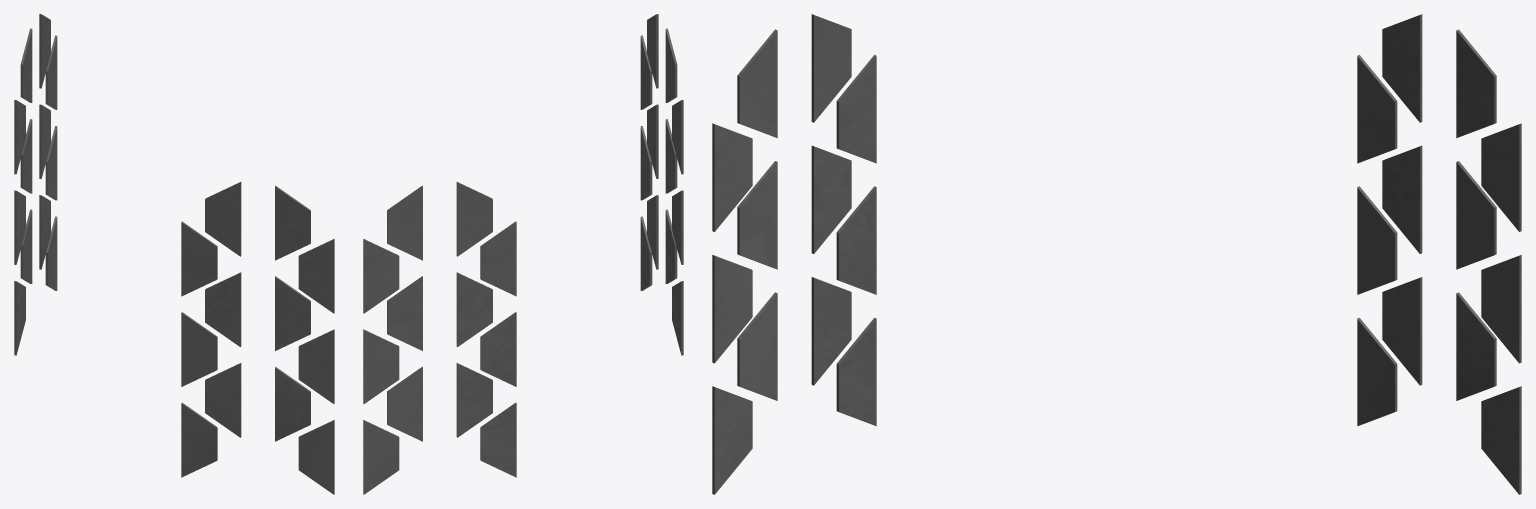
Rendered from detalles_tocawebofbx.fbx.
The picture shows the model from 3 angles, left to right: view 1: azimuth 30°, elevation 25°; view 2: azimuth 150°, elevation 25°; view 3: azimuth 270°, elevation 25°; orthographic projection. The views are drawn at different scales.
Parts seen in each view (by area): view 1: detalles pared.001; view 2: detalles pared.001; view 3: detalles pared.001.
Part boxes in pixels (<box>): detalles pared.001: <box>14,14,334,494</box>; detalles pared.001: <box>363,14,683,494</box>; detalles pared.001: <box>712,14,1521,494</box>.
Size of the model in its own units: 629 by 1849 by 3096.
